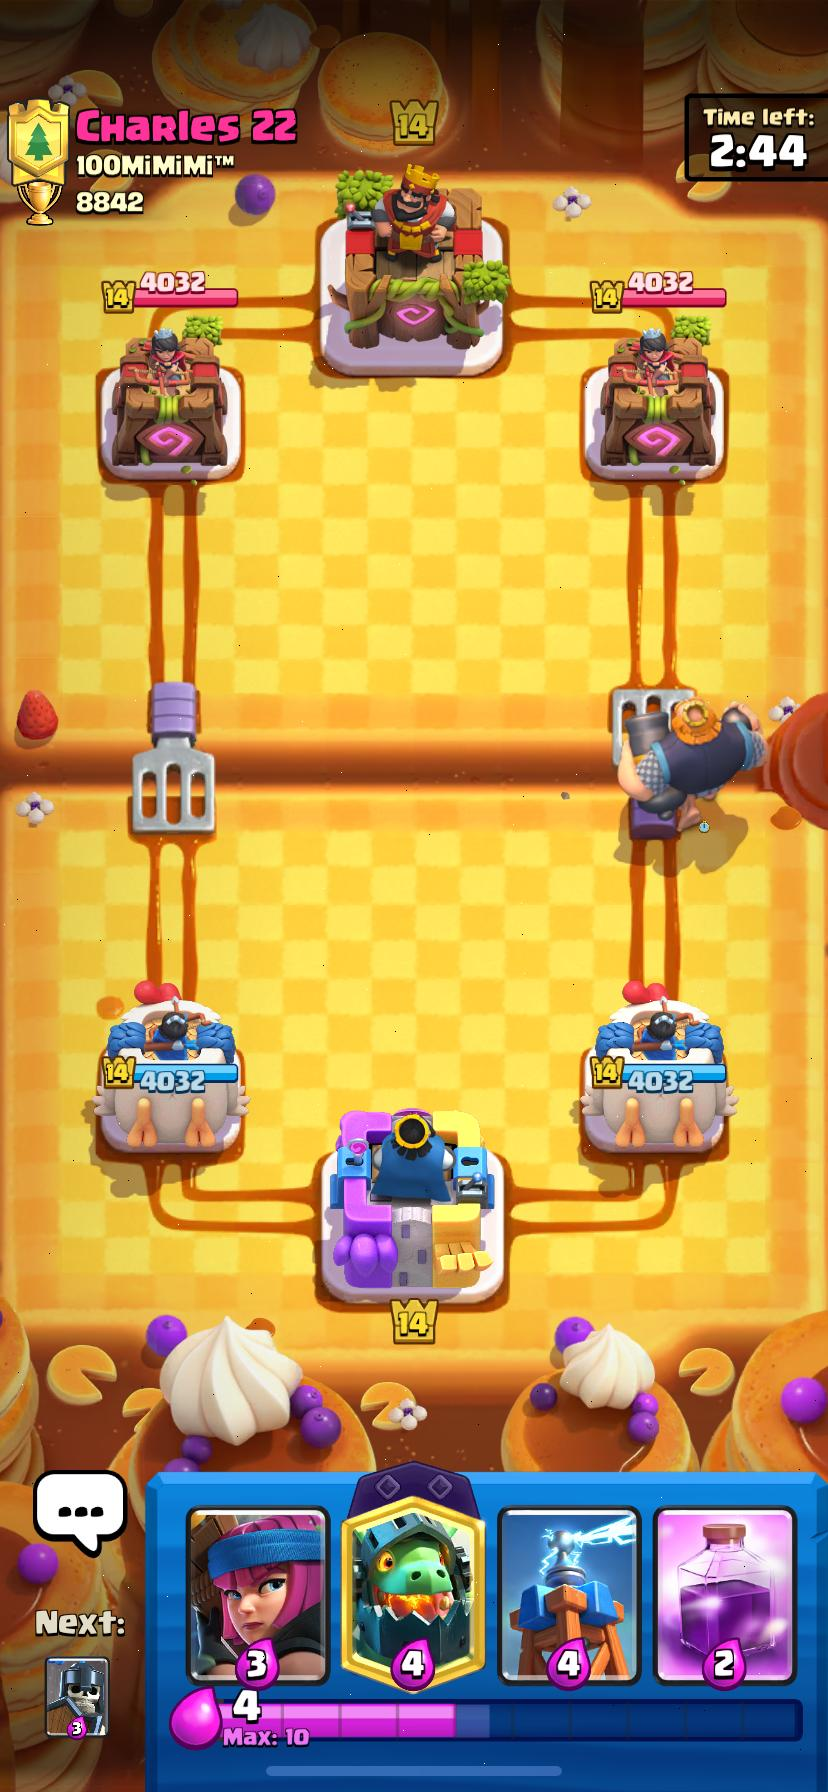EKingTower: (345, 166, 486, 350)
EnemyPrincessTower: (599, 329, 717, 479), (112, 328, 226, 474)
ORoyalG: (618, 698, 764, 829)
OwnKingTower: (331, 1109, 493, 1301)
OwnPrincessTower: (93, 986, 248, 1151), (581, 997, 734, 1147)
